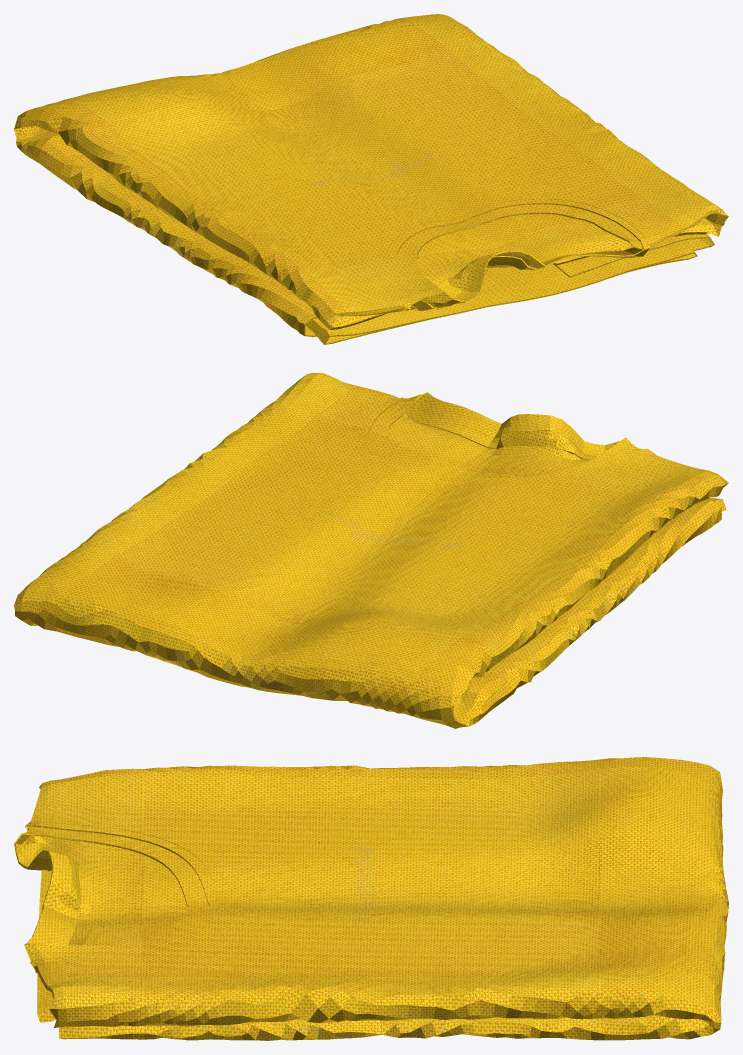
The model's file is T_shirt_body_294.fbx.
3 views of the same model, one above another, from view 1: azimuth 30°, elevation 25°; view 2: azimuth 150°, elevation 25°; view 3: azimuth 270°, elevation 25° (orthographic). The views are drawn at different scales.
Visible parts, largest first — view 1: T_shirt_body_294; view 2: T_shirt_body_294; view 3: T_shirt_body_294.
Boxes of the visible parts, left/top/right/bottom form: T_shirt_body_294: left=14, top=14, right=728, bottom=344; T_shirt_body_294: left=14, top=373, right=728, bottom=728; T_shirt_body_294: left=14, top=757, right=728, bottom=1040.
Size of the model in its own units: 10.23 by 1.33 by 12.33.
